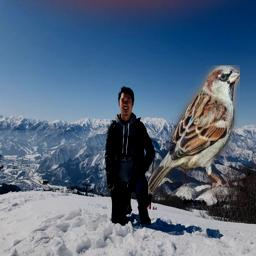Sparrow: (148, 65, 240, 195)
